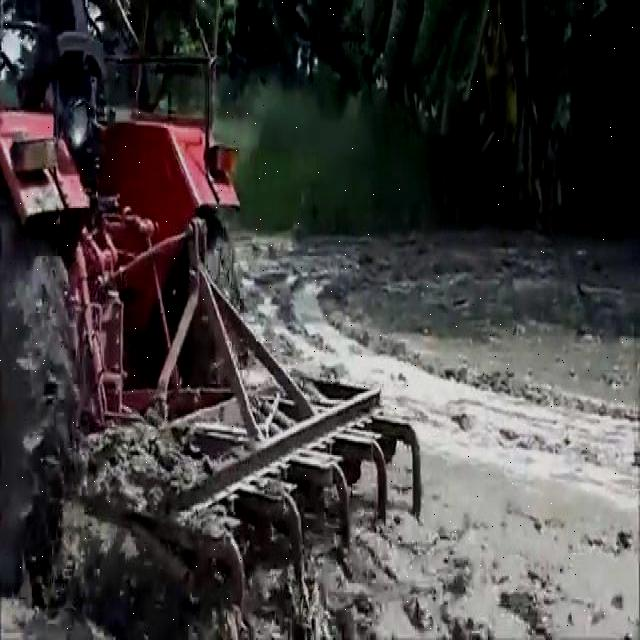Tratores - v5 YOLO V8L 2024-11-13: (1, 1, 242, 640)
